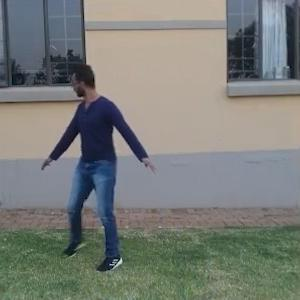land: (36, 56, 155, 262)
